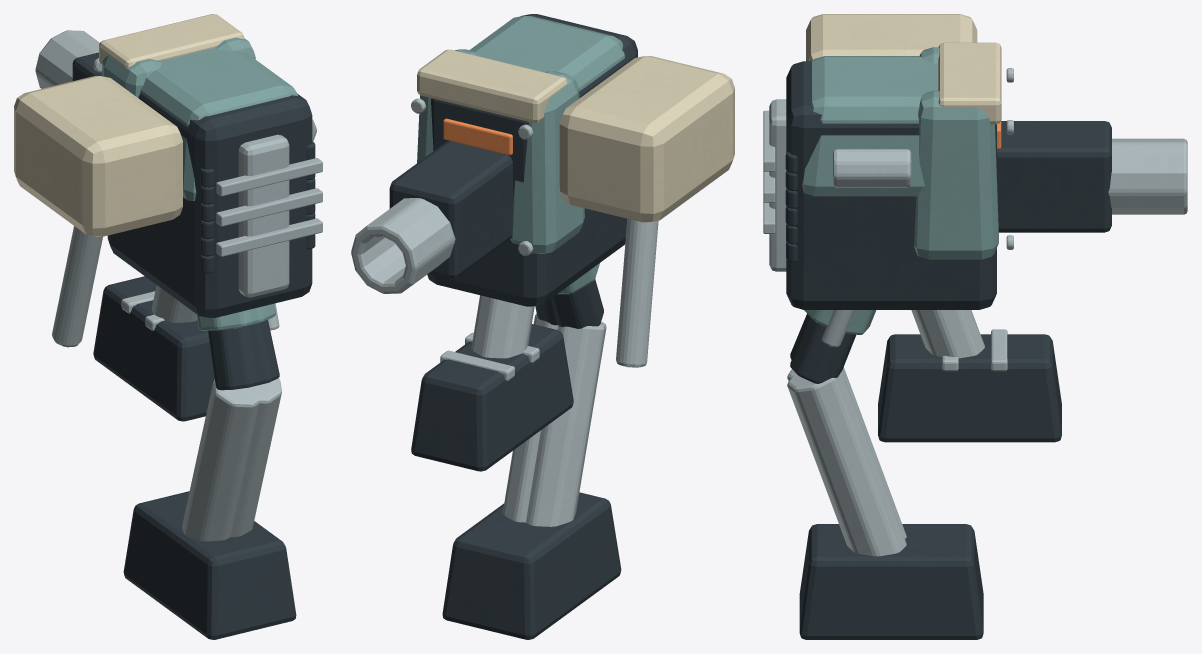
The model's file is needle_surveyor.glb.
3 views of the same model, side by side, from view 1: azimuth 30°, elevation 25°; view 2: azimuth 150°, elevation 25°; view 3: azimuth 270°, elevation 25° (orthographic). The views are drawn at different scales.
Parts seen in each view (by area): view 1: L0_Chassis, L2_Hip0, L0_Turret, L0_Shin0, L2_Hip1, L0_Hip0, L0_Weapon, L0_Hip1; view 2: L0_Chassis, L2_Hip0, L0_Shin0, L0_Weapon, L0_Turret, L2_Hip1, L0_Hip0, L0_Optics; view 3: L0_Chassis, L2_Hip1, L0_Shin0, L0_Turret, L0_Weapon, L0_Hip1, L2_Hip0.
Boxes of the visible parts, x1,y1,x2,y2 form: L0_Chassis: (14, 37, 322, 347); L2_Hip0: (123, 379, 277, 639); L0_Turret: (99, 14, 316, 200); L0_Shin0: (93, 276, 214, 421); L2_Hip1: (155, 378, 296, 635); L0_Hip0: (196, 309, 257, 390); L0_Weapon: (35, 30, 101, 88); L0_Hip1: (234, 303, 279, 385); L0_Chassis: (411, 14, 734, 367); L2_Hip0: (462, 322, 621, 639); L0_Shin0: (411, 295, 573, 471); L0_Weapon: (351, 141, 512, 293); L0_Turret: (417, 16, 624, 122); L2_Hip1: (442, 314, 558, 635); L0_Hip0: (551, 263, 603, 328); L0_Optics: (443, 118, 512, 155); L0_Chassis: (763, 14, 1013, 309); L2_Hip1: (787, 371, 983, 639); L0_Shin0: (878, 310, 1061, 442); L0_Turret: (802, 42, 1001, 196); L0_Weapon: (997, 121, 1187, 232); L0_Hip1: (790, 310, 876, 383); L2_Hip0: (787, 367, 983, 622).
Bounding box in the file's own units: 0.5832 × 1.24 × 0.8675.
1 material, 1 textured.
